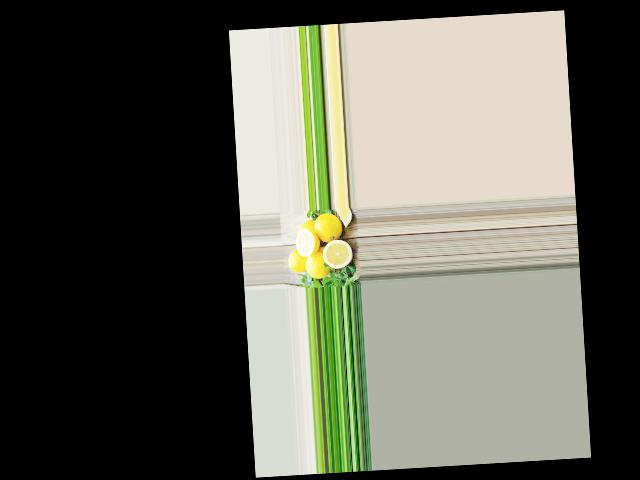lemon: (296, 218, 317, 235)
